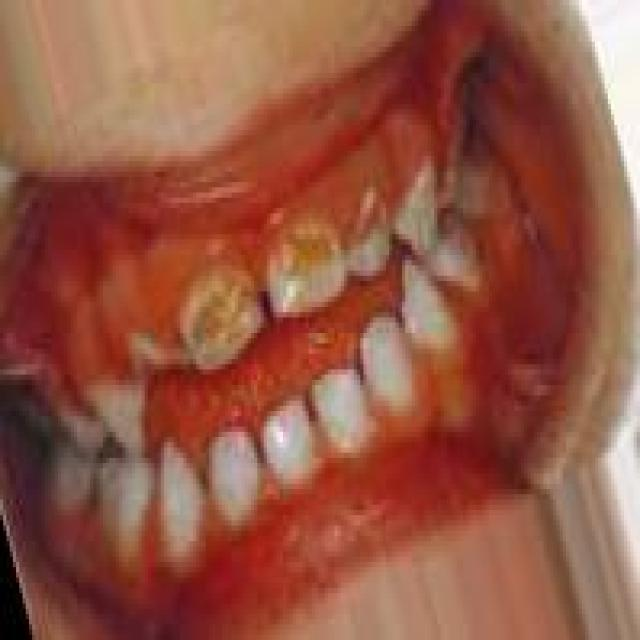caries: (257, 216, 346, 323), (174, 266, 258, 379), (392, 162, 448, 272), (346, 187, 397, 283)
